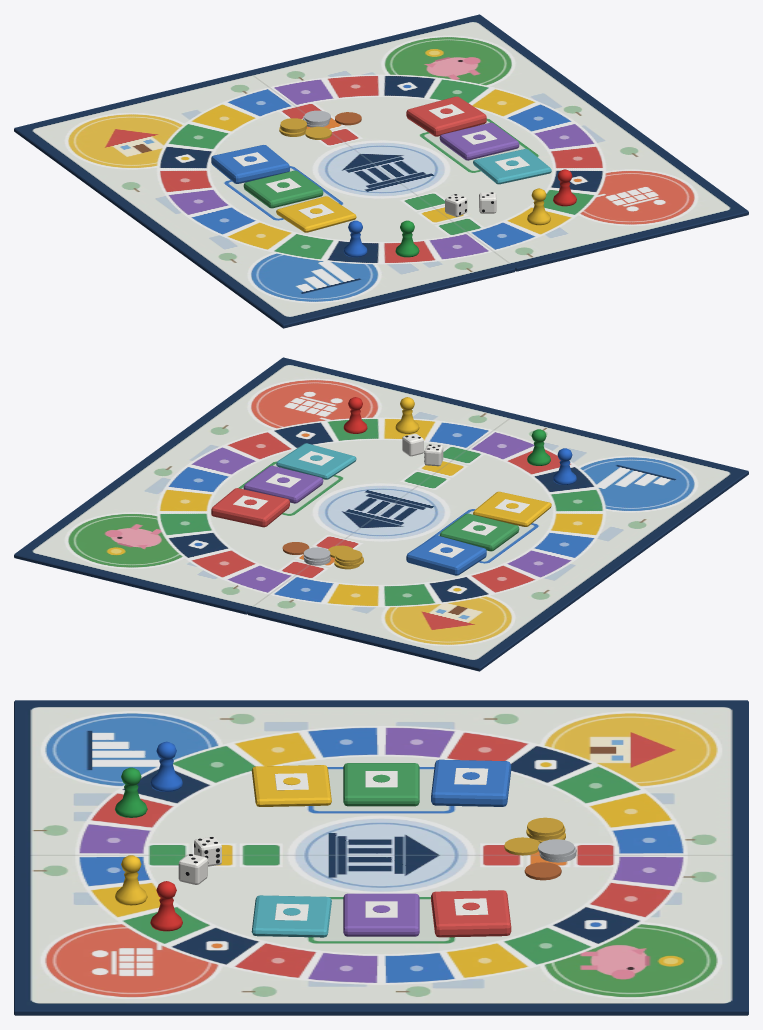
File: item-80.glb
The picture shows the model from 3 angles, top to bottom: view 1: azimuth 30°, elevation 25°; view 2: azimuth 150°, elevation 25°; view 3: azimuth 270°, elevation 25°; orthographic projection. The views are drawn at different scales.
Visible parts, largest first — view 1: board_face, board, deck.003, deck, deck.001, deck.004, deck.002, deck.005, board.001, pawn15, pawn16, pawn20 (+1 smaller); view 2: board_face, board, deck, deck.003, deck.001, deck.004, deck.005, deck.002, board.001, pawn20, pawn15, pawn16 (+1 smaller); view 3: board_face, board.001, deck, deck.003, deck.004, deck.001, deck.005, deck.002, pawn16, pawn15, pawn19, pawn20 (+6 smaller).
Boxes of the visible parts, x1,y1,x2,y2 form: board_face: (15,14,747,324); board: (14,128,515,328); deck.003: (406,96,486,136); deck: (211,145,289,183); deck.001: (243,170,323,208); deck.004: (439,122,519,160); deck.002: (276,196,356,232); deck.005: (473,149,551,184); board.001: (515,211,748,271); pawn15: (343,220,367,257); pawn16: (395,220,419,257); pawn20: (553,169,576,206); board_face: (15,357,747,667); board: (247,471,748,671); deck: (406,535,486,575); deck.003: (211,488,289,527); deck.001: (439,513,519,551); deck.004: (243,465,323,503); deck.005: (276,443,356,479); deck.002: (473,491,551,526); board.001: (14,554,247,614); pawn20: (343,397,367,433); pawn15: (553,448,576,484); pawn16: (527,429,550,465); board_face: (15,700,747,1009); board.001: (14,856,748,1015); deck: (431,759,511,806); deck.003: (431,890,511,937); deck.004: (343,893,419,936); deck.001: (343,763,419,806); deck.005: (251,895,331,937); deck.002: (251,765,331,806); pawn16: (115,767,147,817); pawn15: (150,741,182,791); pawn19: (115,855,147,905); pawn20: (150,881,182,931).
Size of the model in its own units: 0.4996 by 0.0362 by 0.5.
18 materials, 1 textured.
